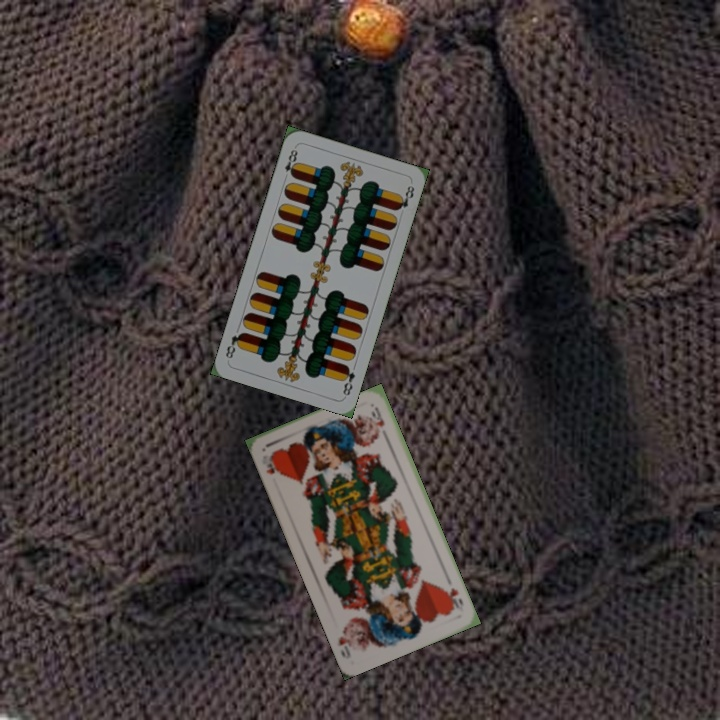E8: (280, 143, 300, 182), (338, 361, 358, 398)
HO: (442, 584, 466, 612), (262, 449, 283, 478)
